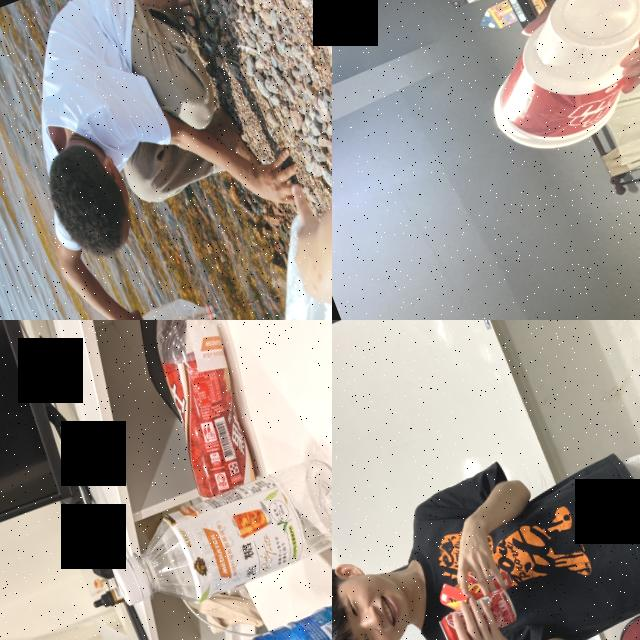bottle: (101, 450, 332, 630), (111, 320, 279, 504), (142, 571, 332, 640), (104, 280, 225, 320)
can: (433, 582, 524, 640)
cup: (457, 0, 640, 167)
